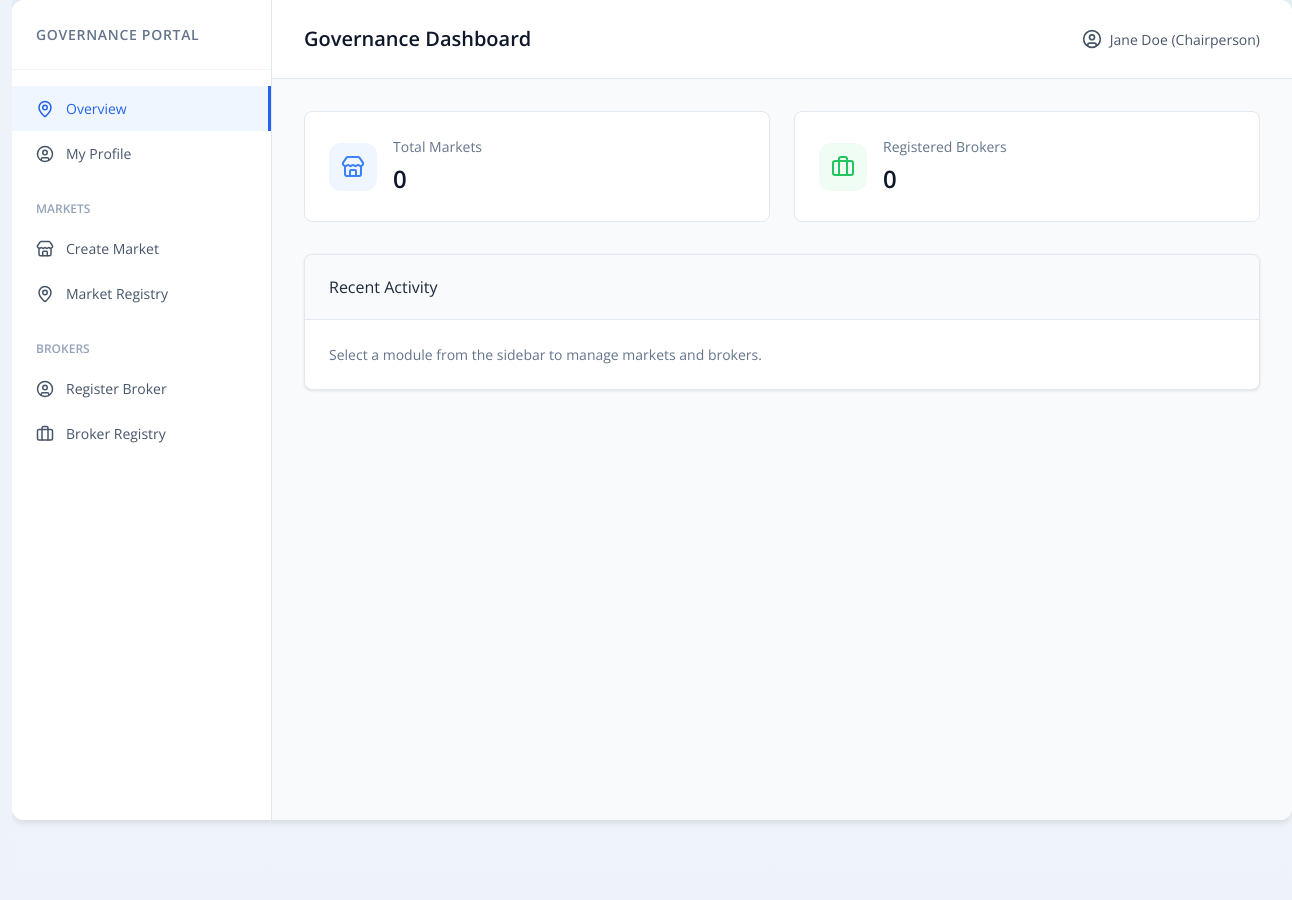
Test: GovernanceView › navigates between panes
Click the button "Create Market": point(142, 248) [12,226,271,271]
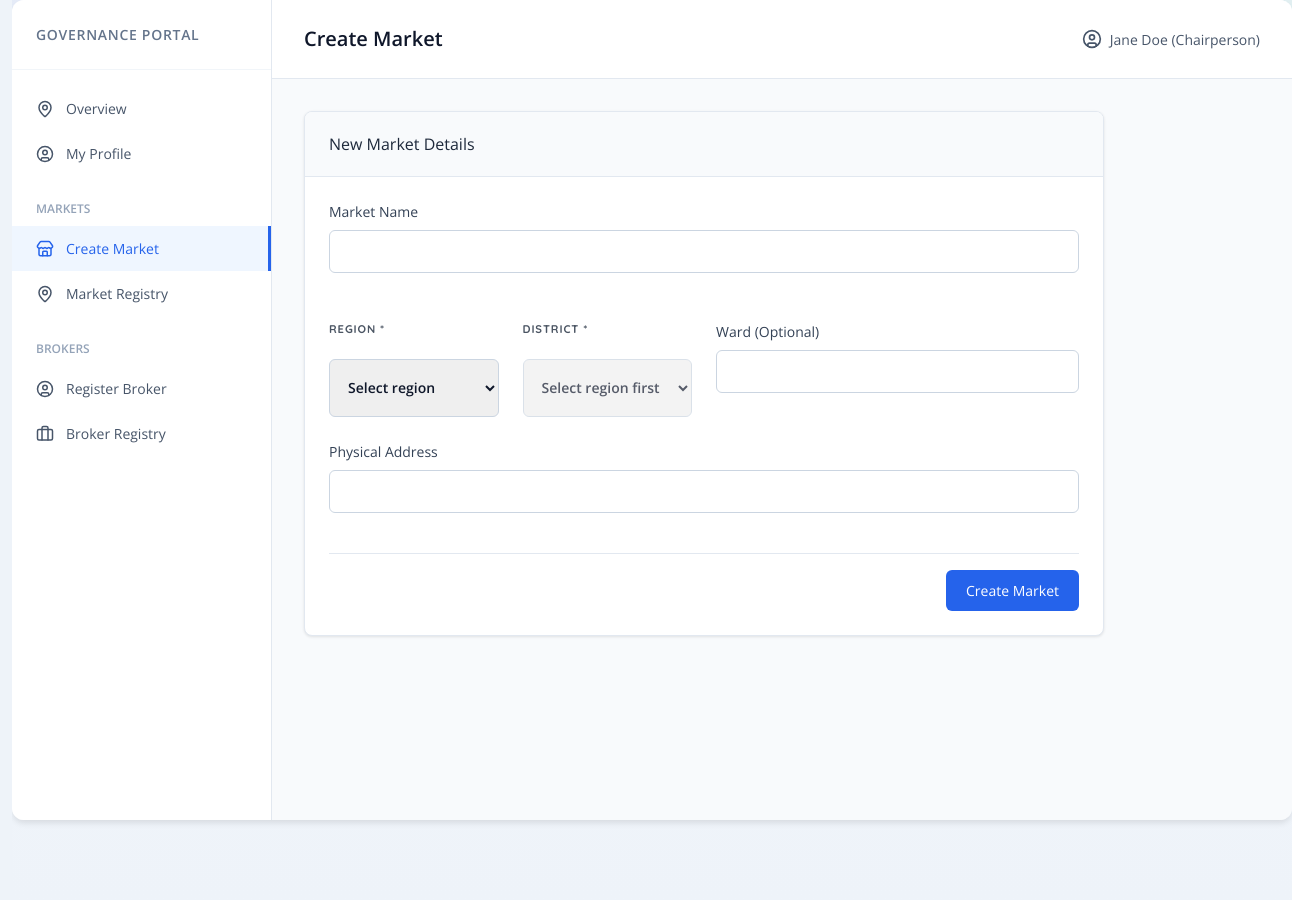
Check: the heading "New Market Details" is shown, box [329,133,474,155]
